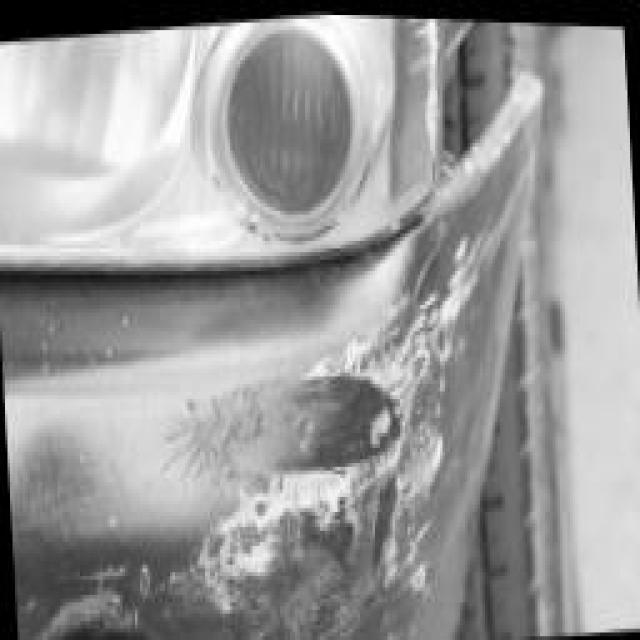Bumper: (70, 143, 570, 640)
